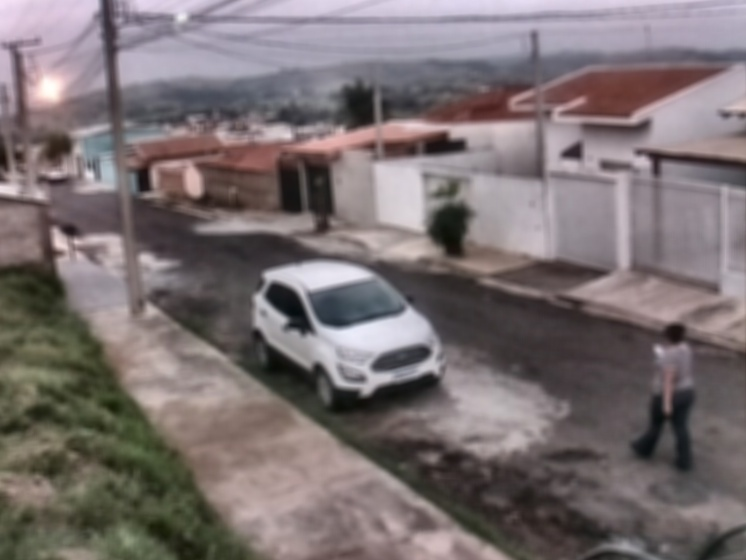person: (629, 323, 699, 474)
